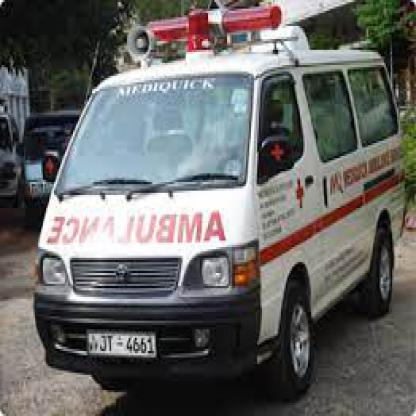van: (29, 15, 408, 405)
